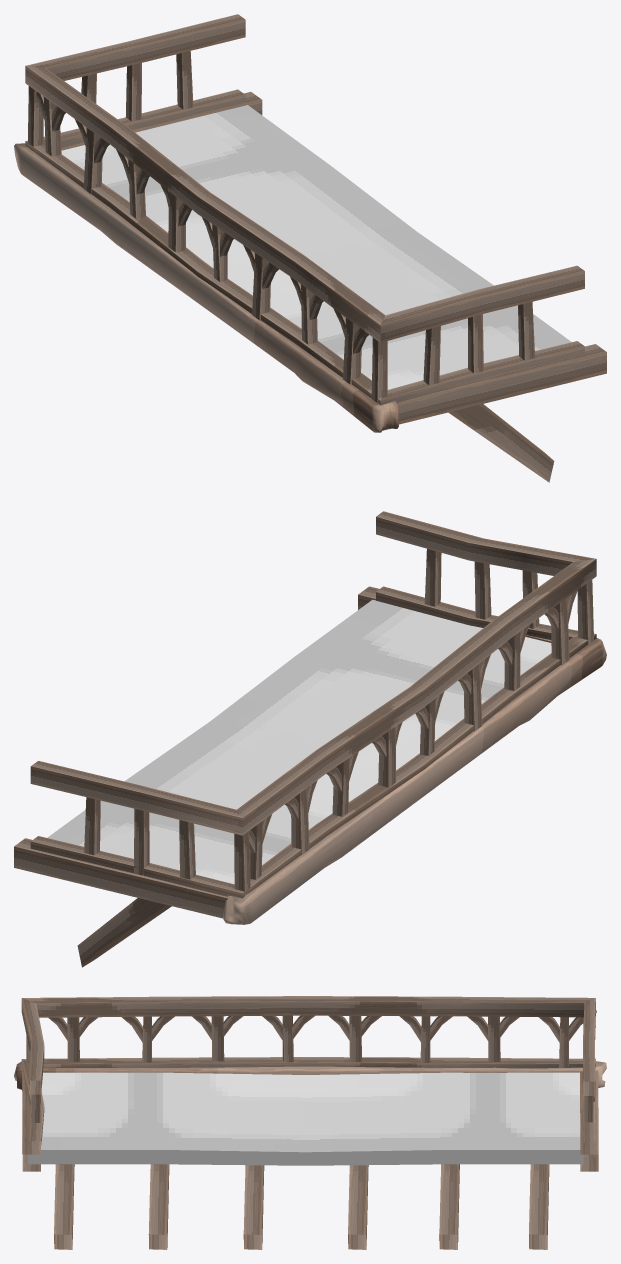
The model's file is SM_Tower_Extra_03.fbx.
3 views of the same model, one above another, from view 1: azimuth 30°, elevation 25°; view 2: azimuth 150°, elevation 25°; view 3: azimuth 270°, elevation 25° (orthographic). The views are drawn at different scales.
Visible parts, largest first — view 1: SM_Tower_Extra_03; view 2: SM_Tower_Extra_03; view 3: SM_Tower_Extra_03.
Boxes of the visible parts, bbox=[...] form: SM_Tower_Extra_03: bbox=[14, 14, 606, 482]; SM_Tower_Extra_03: bbox=[14, 511, 606, 967]; SM_Tower_Extra_03: bbox=[14, 996, 606, 1249].
Bounding box in the file's own units: 234 × 633 × 209.
